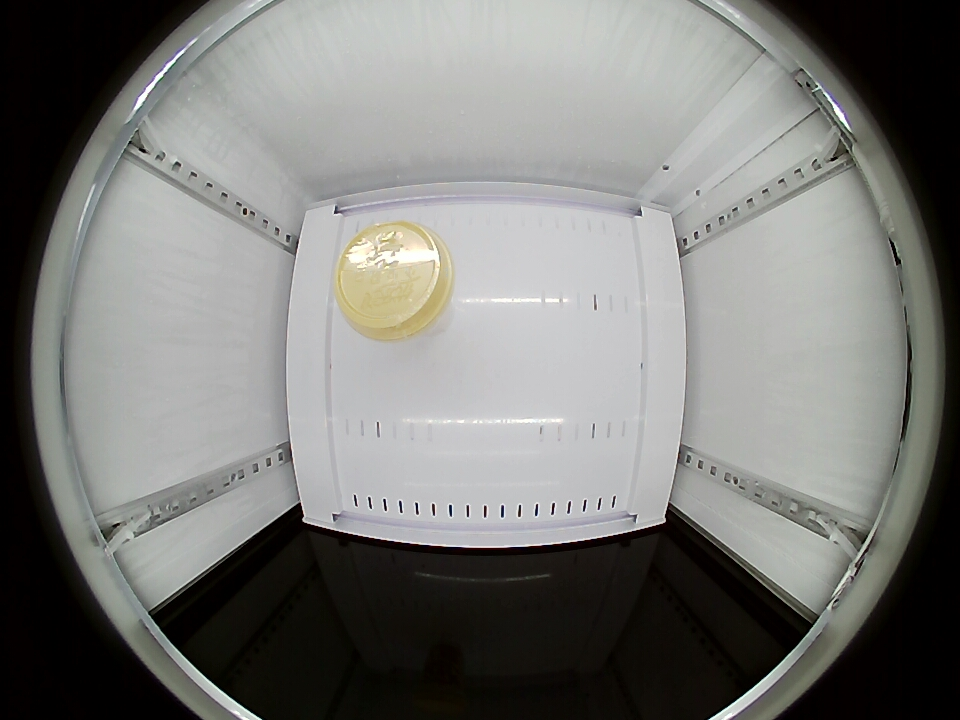youlemei: (335, 221, 454, 341)
